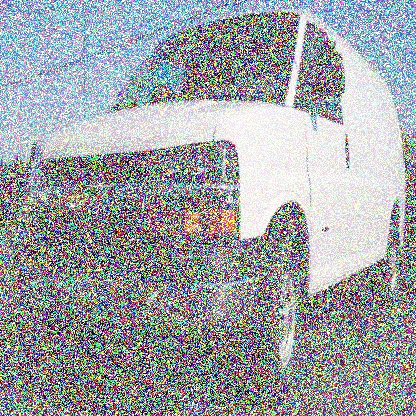Vehicle: (12, 7, 408, 407)
